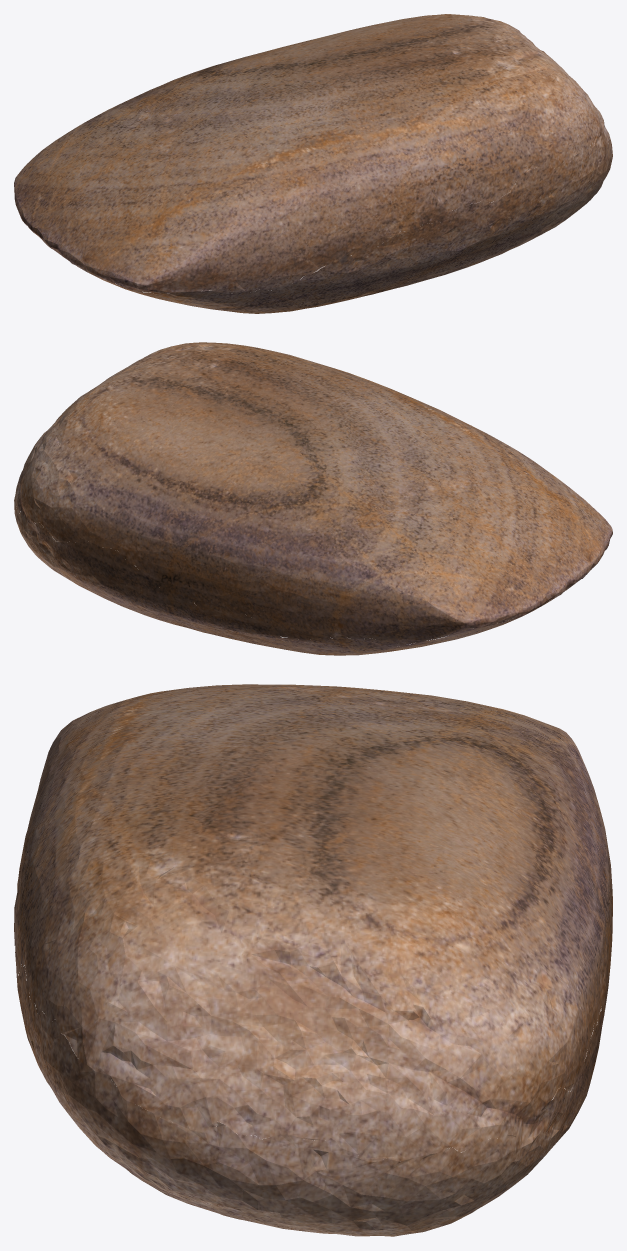
File: Objeto_11_4k-b.glb
The picture shows the model from 3 angles, top to bottom: view 1: azimuth 30°, elevation 25°; view 2: azimuth 150°, elevation 25°; view 3: azimuth 270°, elevation 25°; orthographic projection. The views are drawn at different scales.
Visible parts, largest first — view 1: Mesh_0; view 2: Mesh_0; view 3: Mesh_0.
Part boxes in pixels (x1,y1,x2,y2): Mesh_0: (14, 14, 612, 313); Mesh_0: (14, 342, 612, 655); Mesh_0: (14, 684, 612, 1236).
Size of the model in its own units: 0.0745 by 0.0286 by 0.0435.
1 material, 1 textured.
